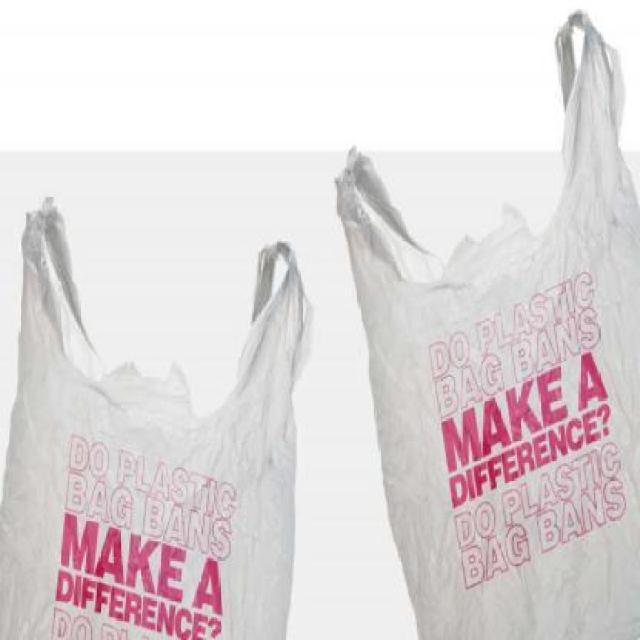plastic bag: (334, 12, 640, 640), (2, 158, 318, 638)
